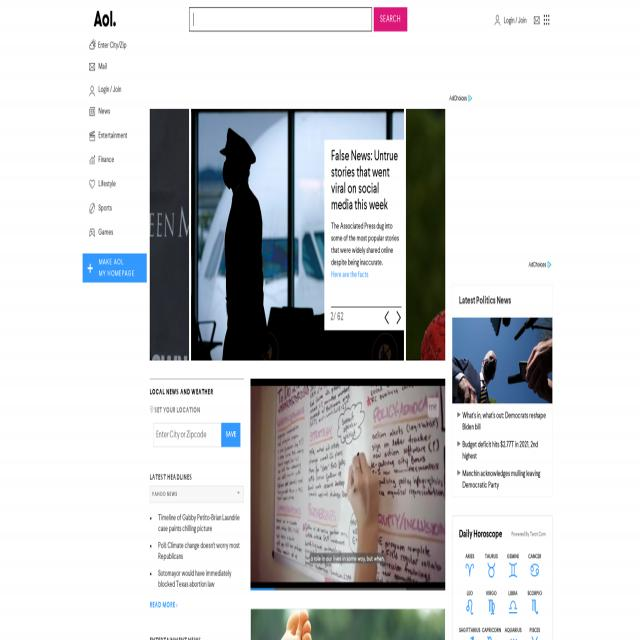button: (250, 378, 444, 593), (452, 318, 552, 403), (82, 254, 148, 282), (374, 7, 407, 32), (88, 11, 121, 27), (459, 562, 481, 578), (480, 562, 502, 578), (502, 562, 524, 578), (524, 562, 546, 578), (459, 599, 481, 615), (480, 599, 502, 615), (502, 599, 524, 615), (524, 599, 546, 615), (543, 13, 551, 28), (89, 38, 96, 50), (89, 62, 95, 72), (89, 86, 95, 96), (89, 106, 95, 116), (89, 131, 95, 141), (89, 155, 95, 165), (89, 179, 95, 189), (89, 204, 95, 214), (89, 228, 95, 238), (495, 15, 500, 26), (534, 15, 539, 26), (384, 311, 388, 324), (397, 311, 401, 324)
field: (189, 7, 372, 32), (153, 423, 221, 447), (150, 486, 243, 502), (222, 423, 240, 447)
